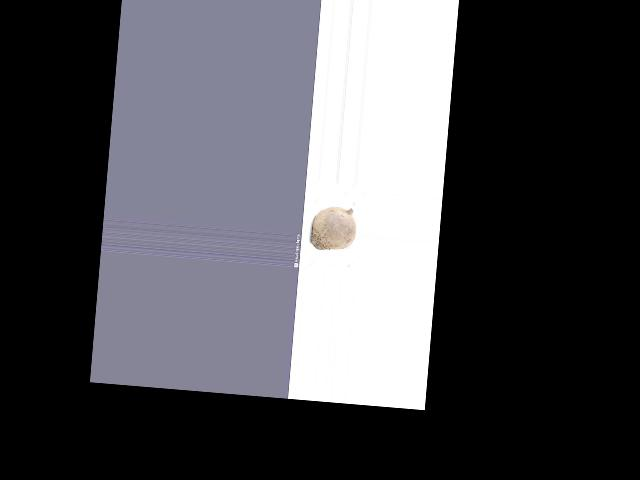beet: (309, 204, 357, 252)
